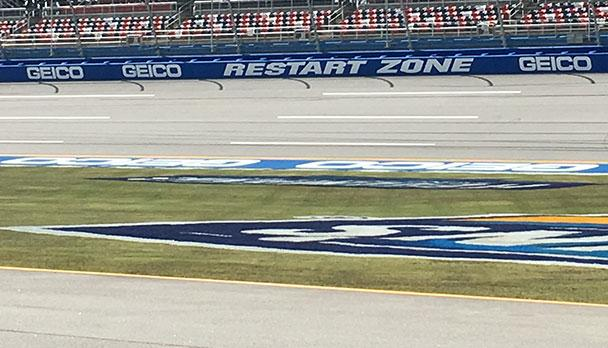Geico: (23, 47, 186, 87), (514, 47, 595, 75)
